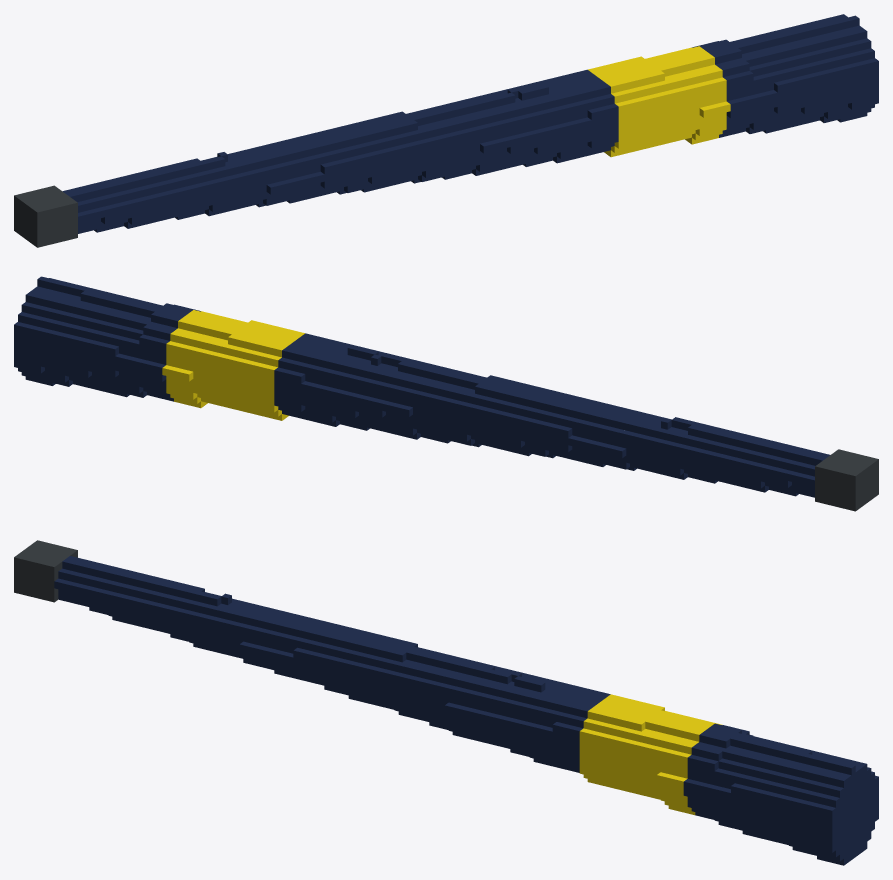
The model's file is police_helicopter_tail_boom.glb.
3 renders of one model, top to bottom at view 1: azimuth 30°, elevation 25°; view 2: azimuth 150°, elevation 25°; view 3: azimuth 330°, elevation 25°, orthographic.
Visible parts, largest first — view 1: body:compound; view 2: body:compound; view 3: body:compound.
Part boxes in pixels (<box>): body:compound: <box>14,14,878,247</box>; body:compound: <box>14,276,878,511</box>; body:compound: <box>14,540,878,865</box>.
Bounding box in the file's own units: 3.84 × 0.4688 × 0.375.
